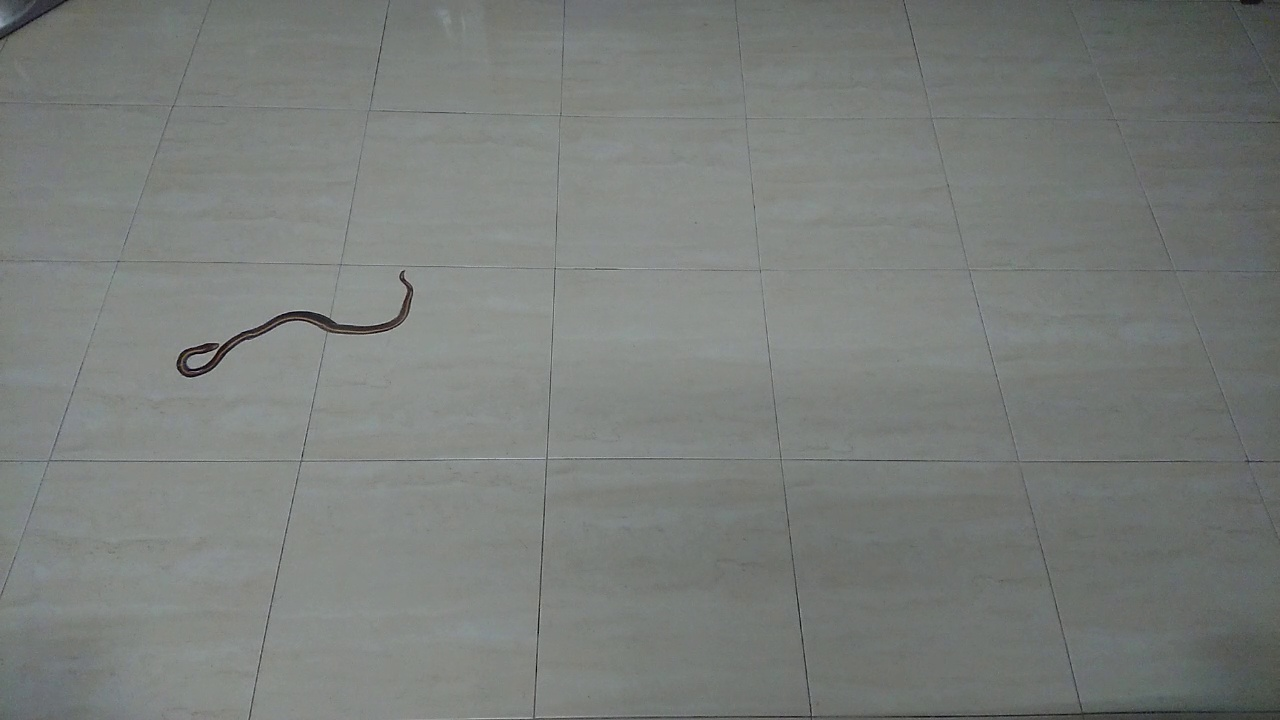snake: (161, 255, 426, 387)
